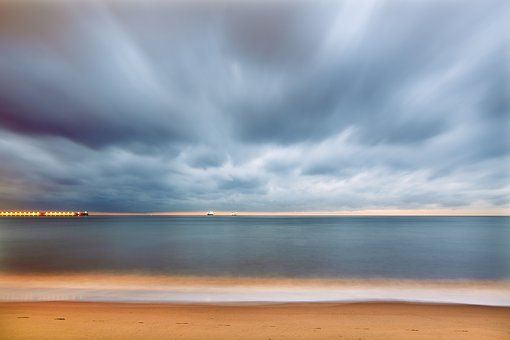sea: (1, 213, 505, 340)
sky: (5, 4, 499, 212)
